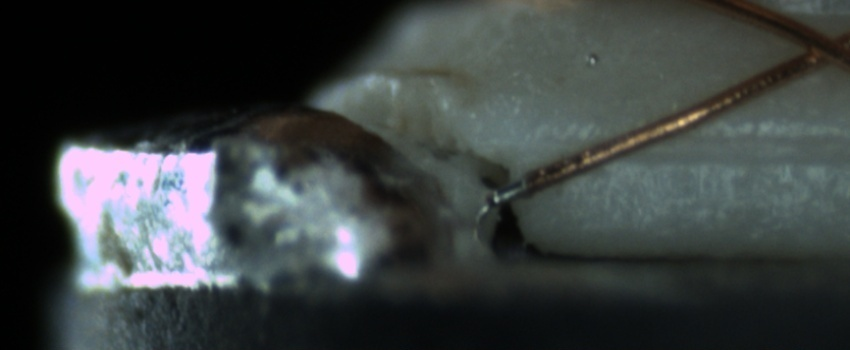CL: (776, 14, 848, 78)
DL: (570, 112, 843, 180)
TS: (492, 178, 527, 203)
